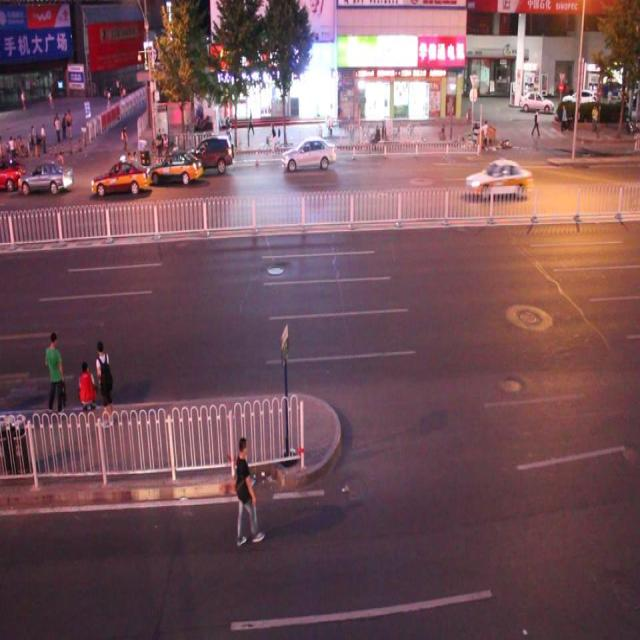car: (466, 157, 529, 200), (281, 135, 336, 171), (91, 161, 149, 195), (148, 148, 202, 184), (19, 160, 73, 193), (186, 135, 233, 171), (1, 156, 24, 188)
